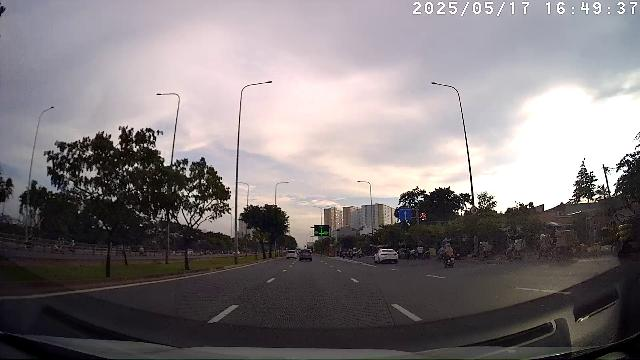127-toc-do-toi-da-60: (470, 206, 478, 215)
